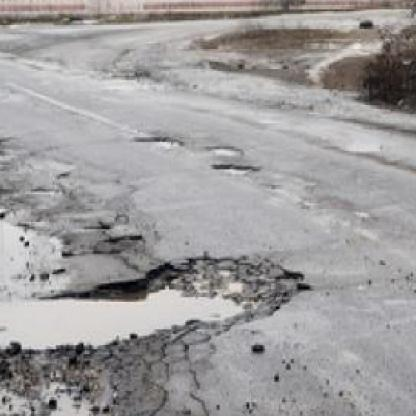pothole: (137, 253, 314, 332), (132, 135, 183, 149), (212, 162, 261, 176), (208, 144, 246, 158)
